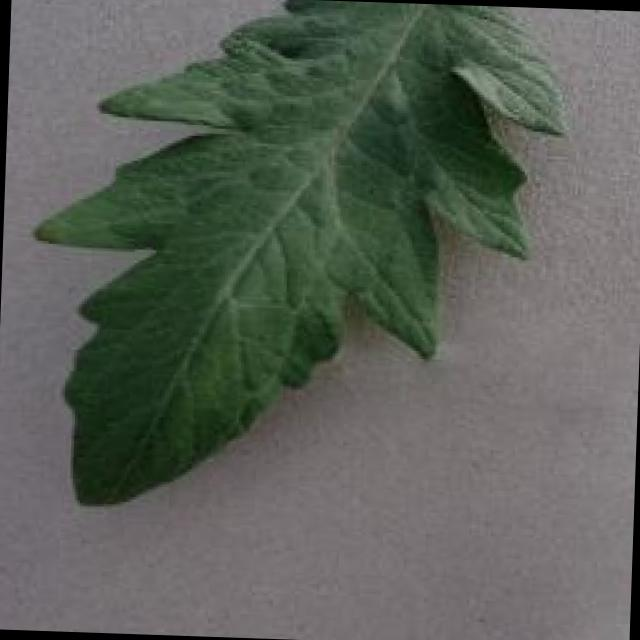healthy: (35, 0, 571, 511)
